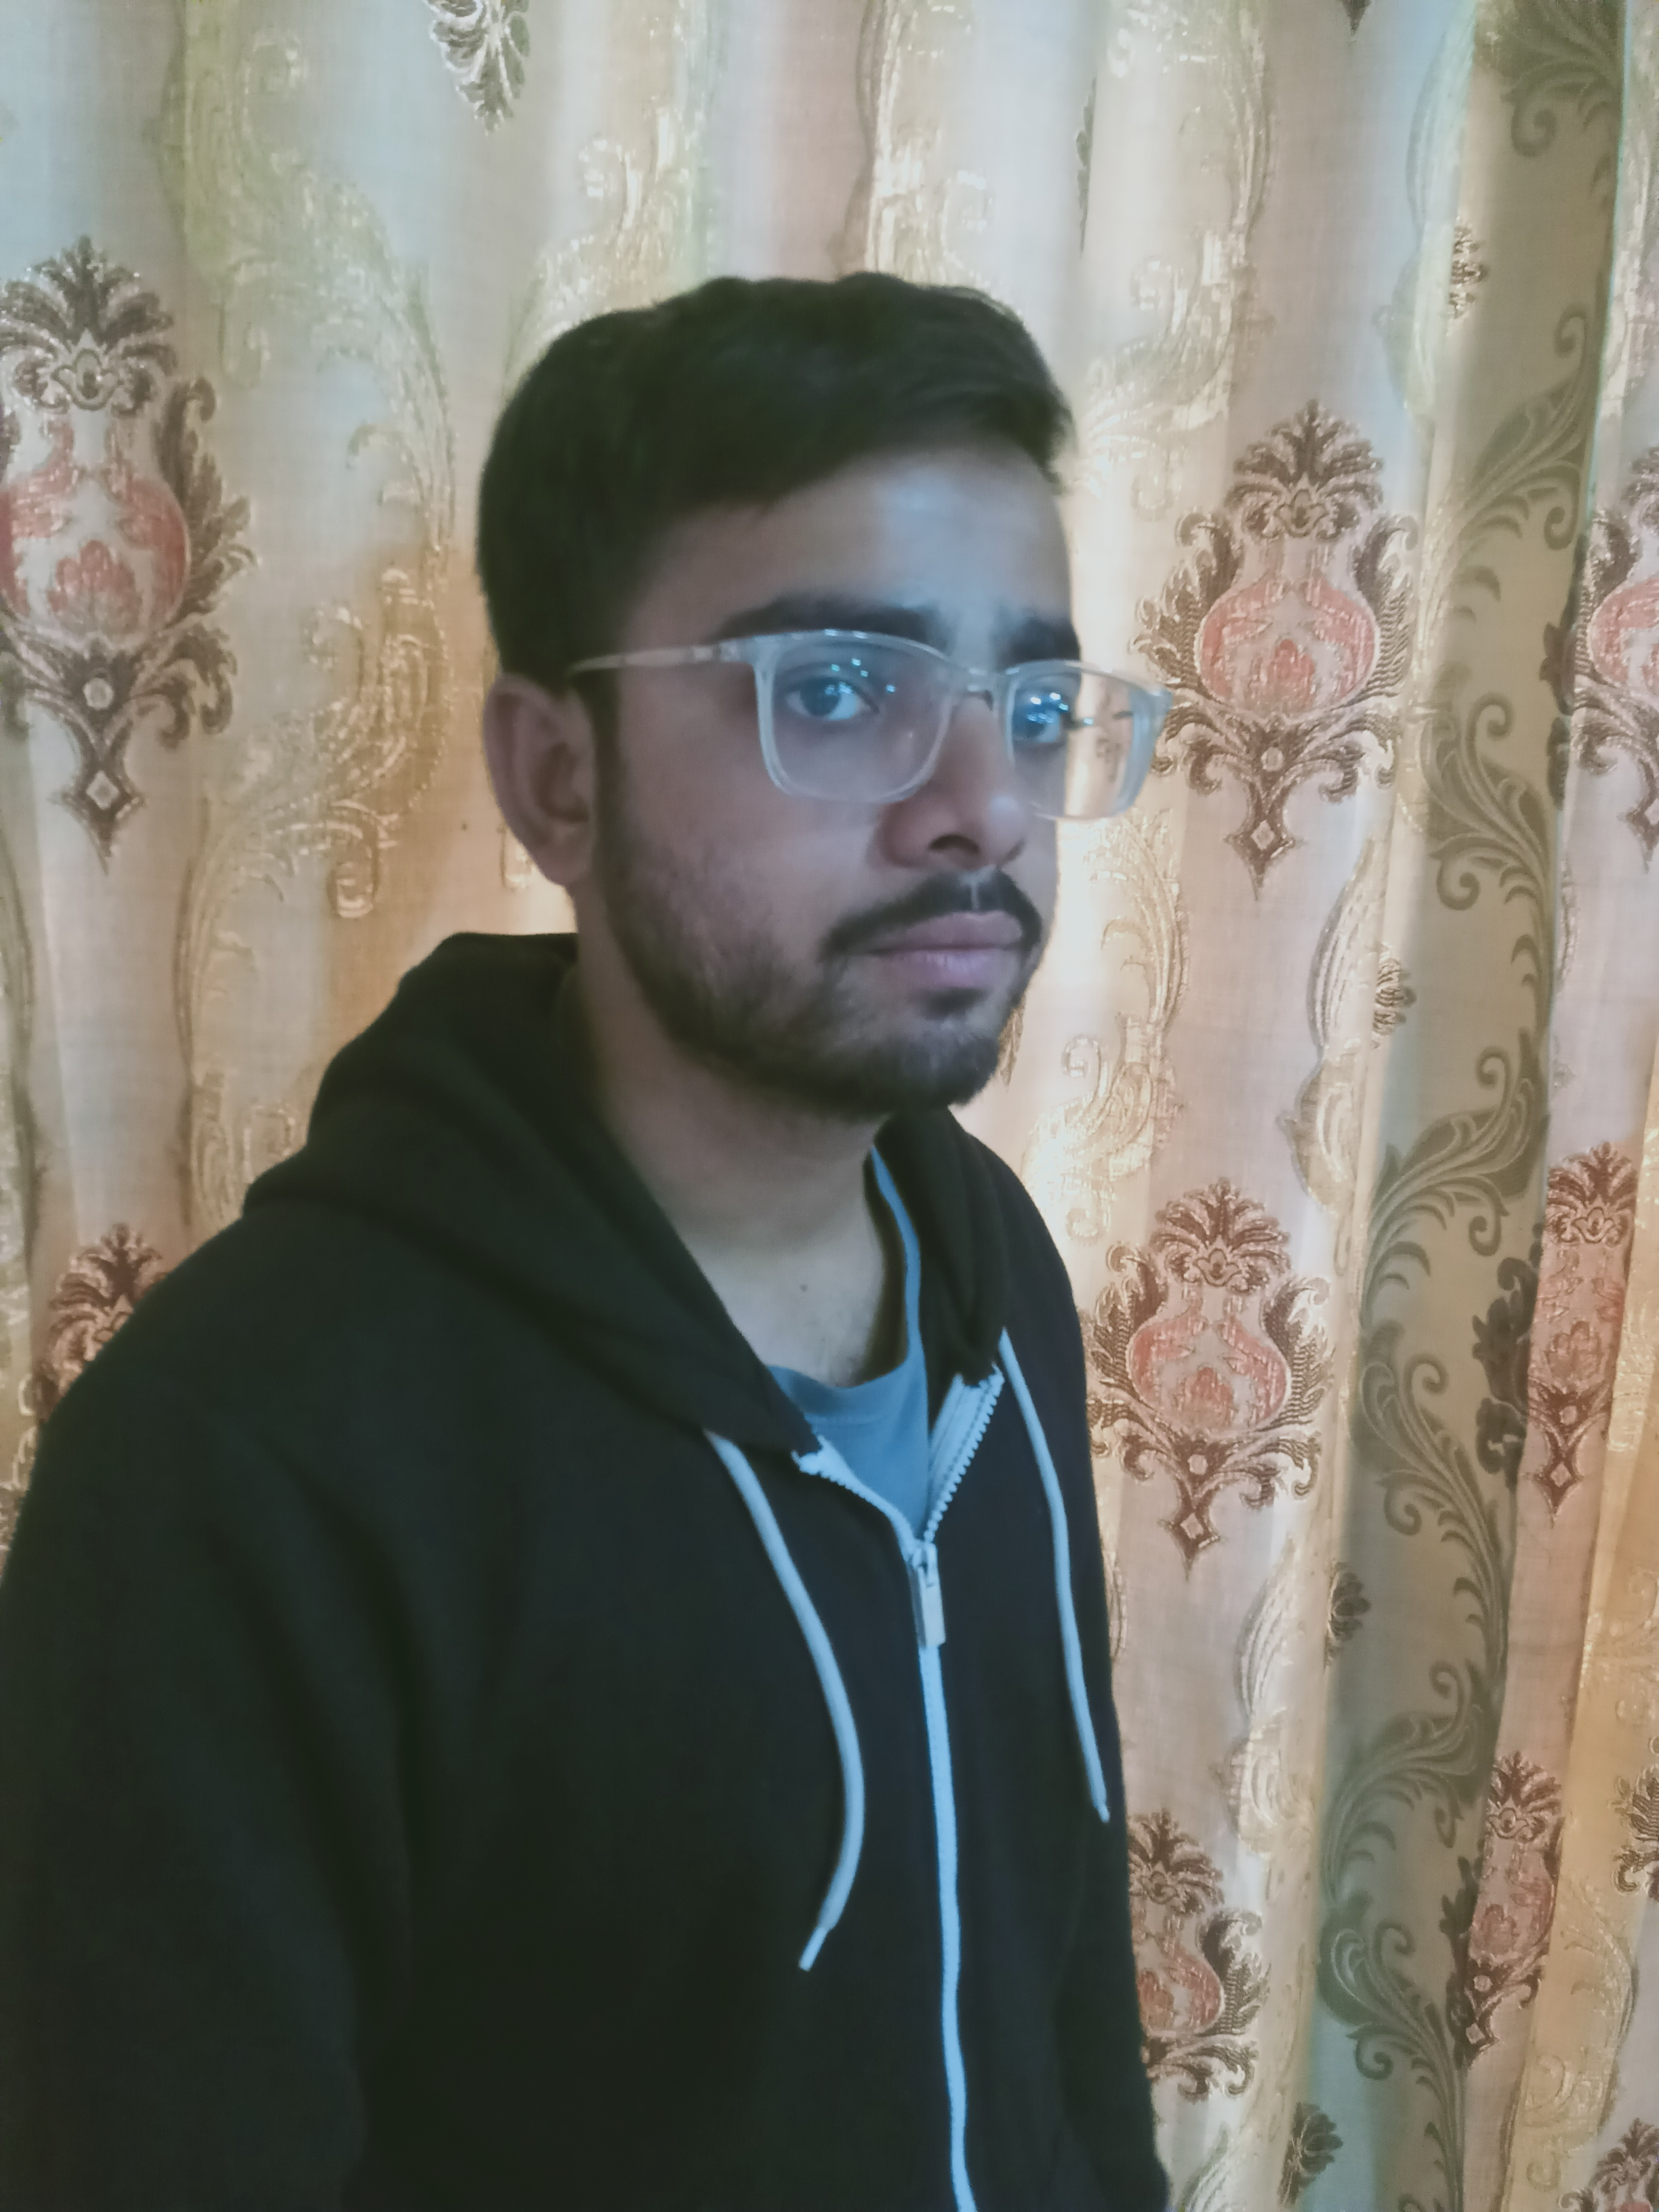NoMask: (650, 571, 1063, 1082)
